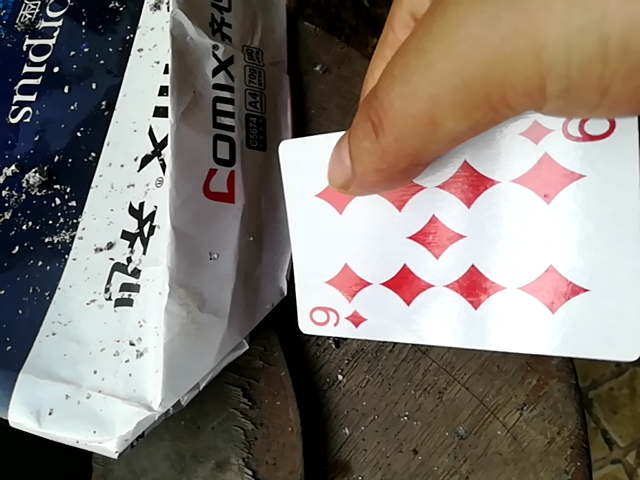fk 9: (280, 112, 640, 366)
